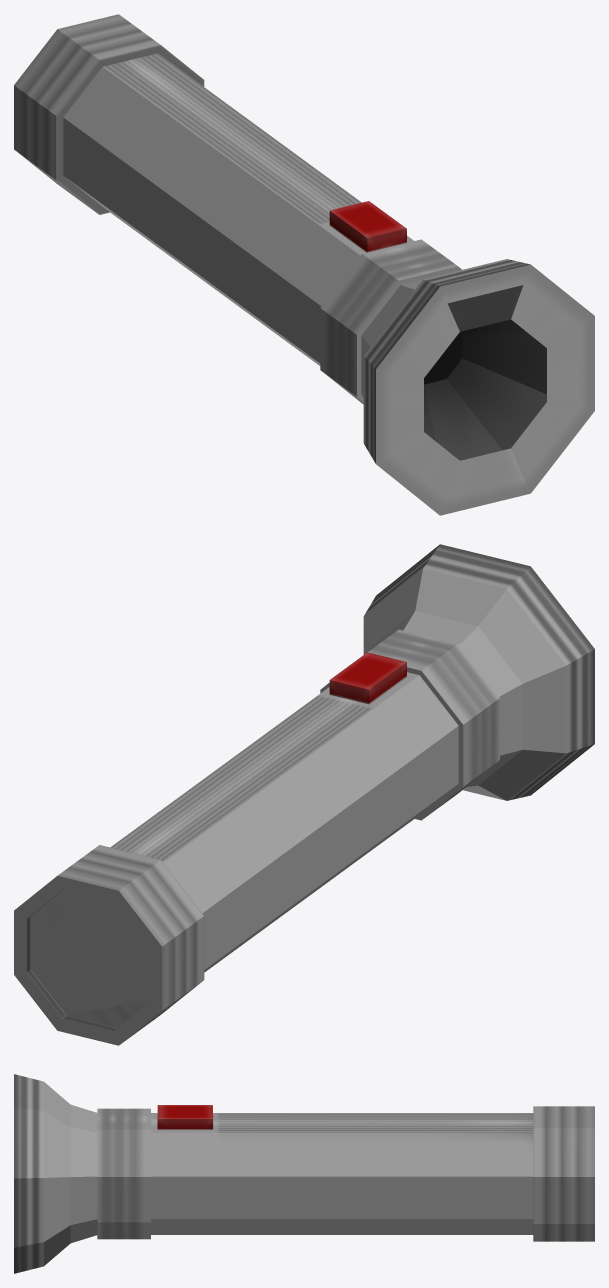
The picture shows the model from 3 angles, top to bottom: view 1: azimuth 30°, elevation 25°; view 2: azimuth 150°, elevation 25°; view 3: azimuth 270°, elevation 25°; orthographic projection. The views are drawn at different scales.
Parts seen in each view (by area): view 1: Linterna, boton; view 2: Linterna, boton; view 3: Linterna, boton.
Boxes of the visible parts, x1,y1,x2,y2 form: Linterna: (14, 14, 594, 515); boton: (329, 201, 406, 252); Linterna: (14, 544, 594, 1045); boton: (329, 652, 406, 704); Linterna: (14, 1074, 594, 1273); boton: (157, 1105, 212, 1129).
Size of the model in its own units: 9.32 by 29.29 by 9.32.
Materials: 1 (1 with a texture image).
